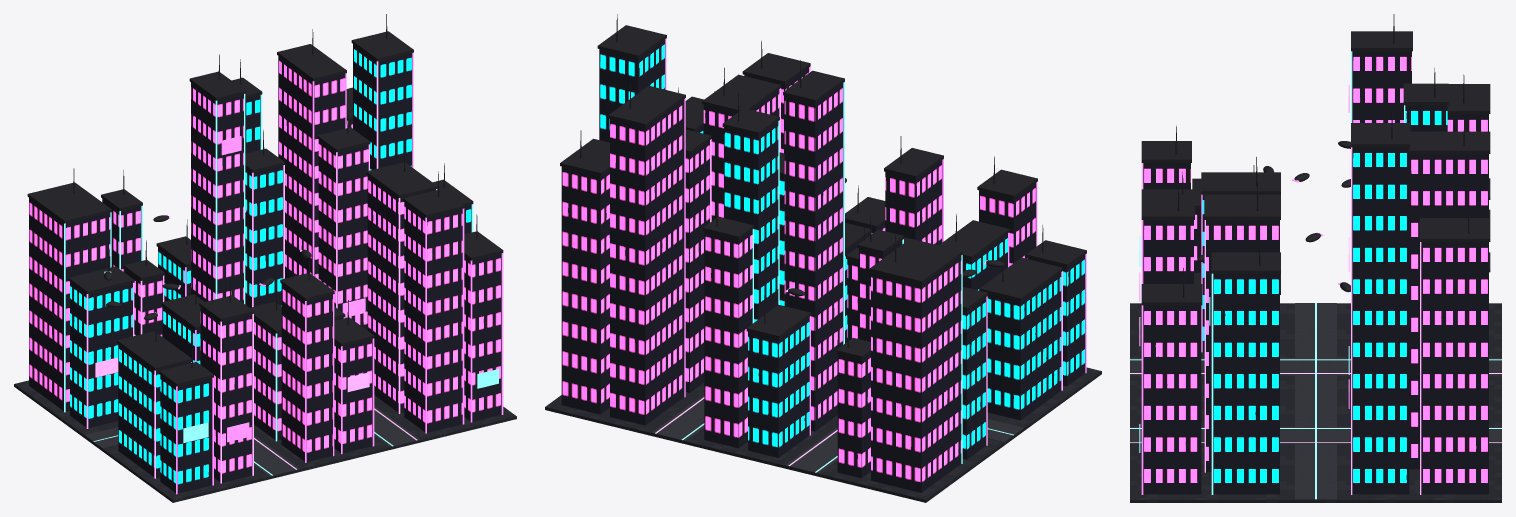
The model's file is Ville_09.glb.
3 renders of one model, left to right at view 1: azimuth 30°, elevation 25°; view 2: azimuth 150°, elevation 25°; view 3: azimuth 270°, elevation 25°, orthographic. The views are drawn at different scales.
Parts seen in each view (by area): view 1: Ville_09; view 2: Ville_09; view 3: Ville_09.
Part boxes in pixels (bbox=[...]): Ville_09: bbox=[14, 14, 516, 502]; Ville_09: bbox=[545, 14, 1101, 502]; Ville_09: bbox=[1130, 14, 1501, 502].
Bounding box in the file's own units: 40 × 36.4 × 32.
Materials: 8 (4 with a texture image).
